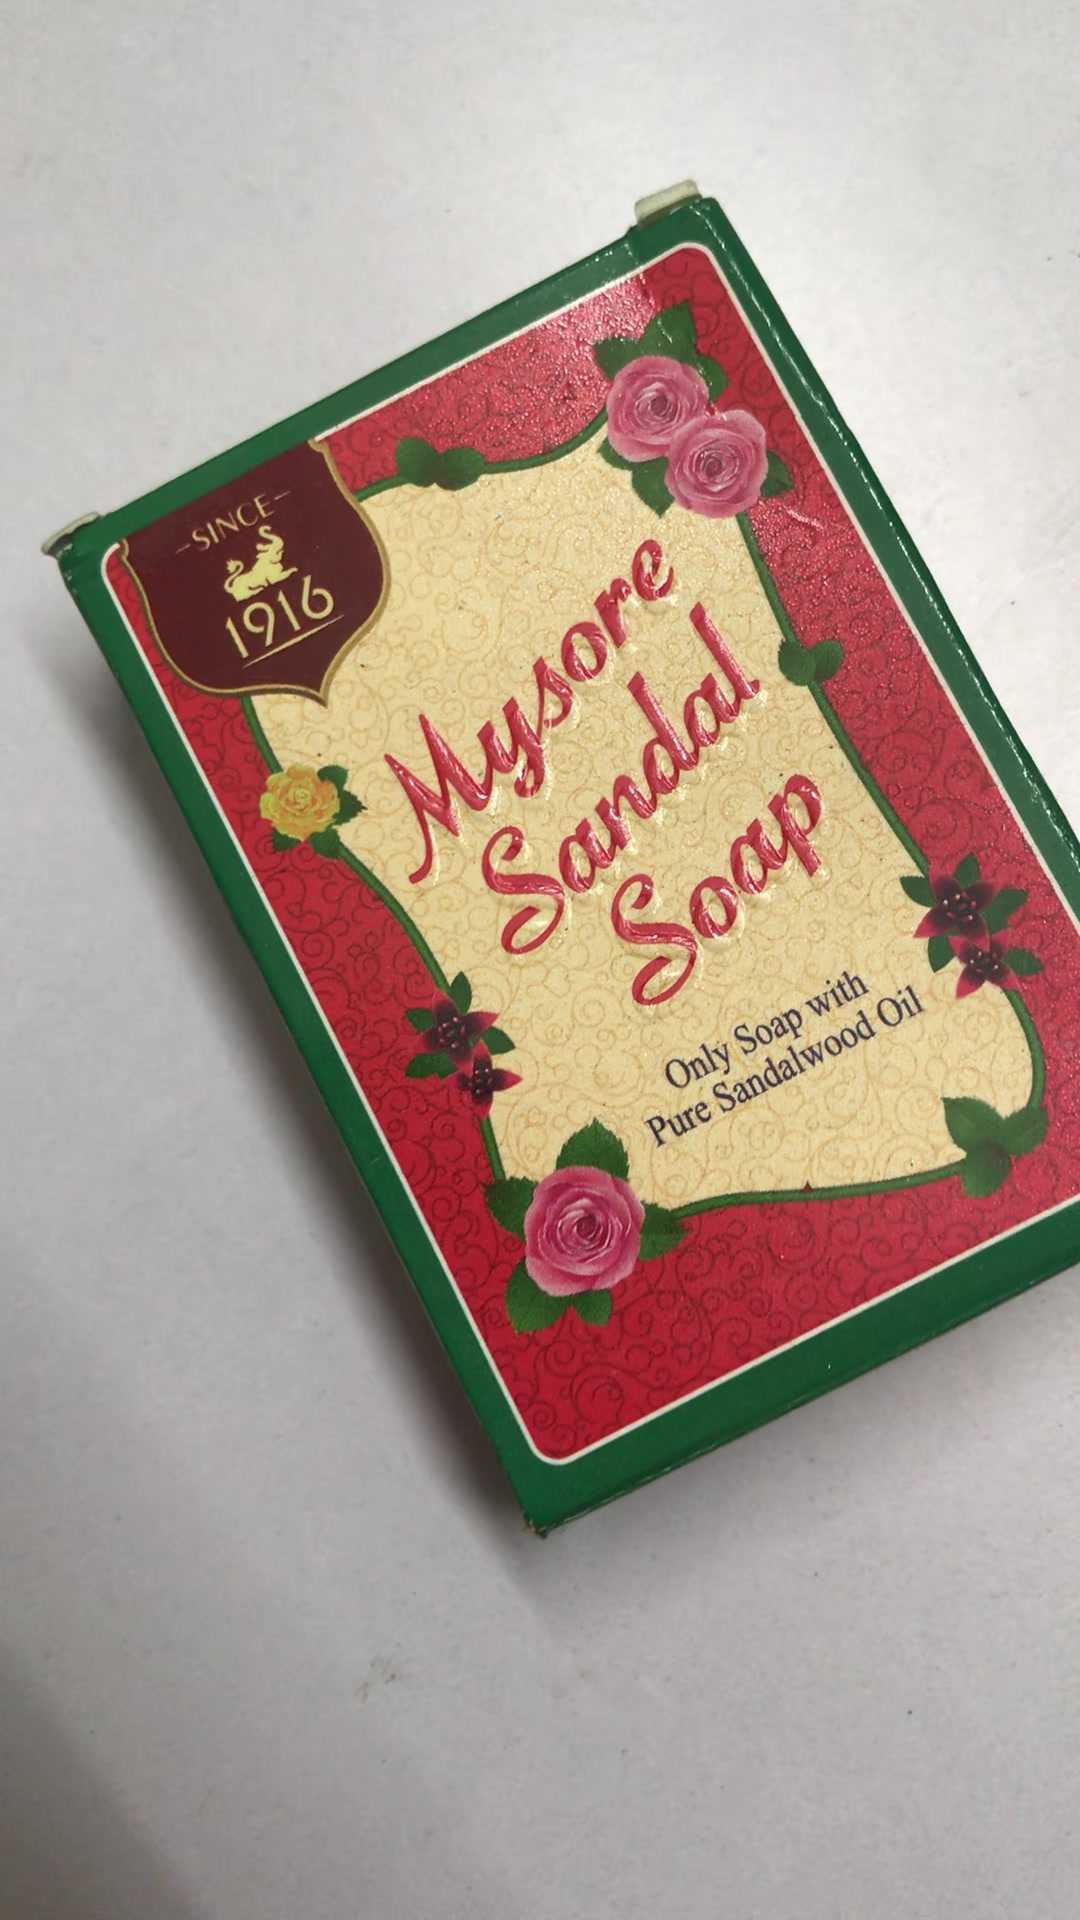mysore sandal soap: (44, 204, 1080, 1532)
